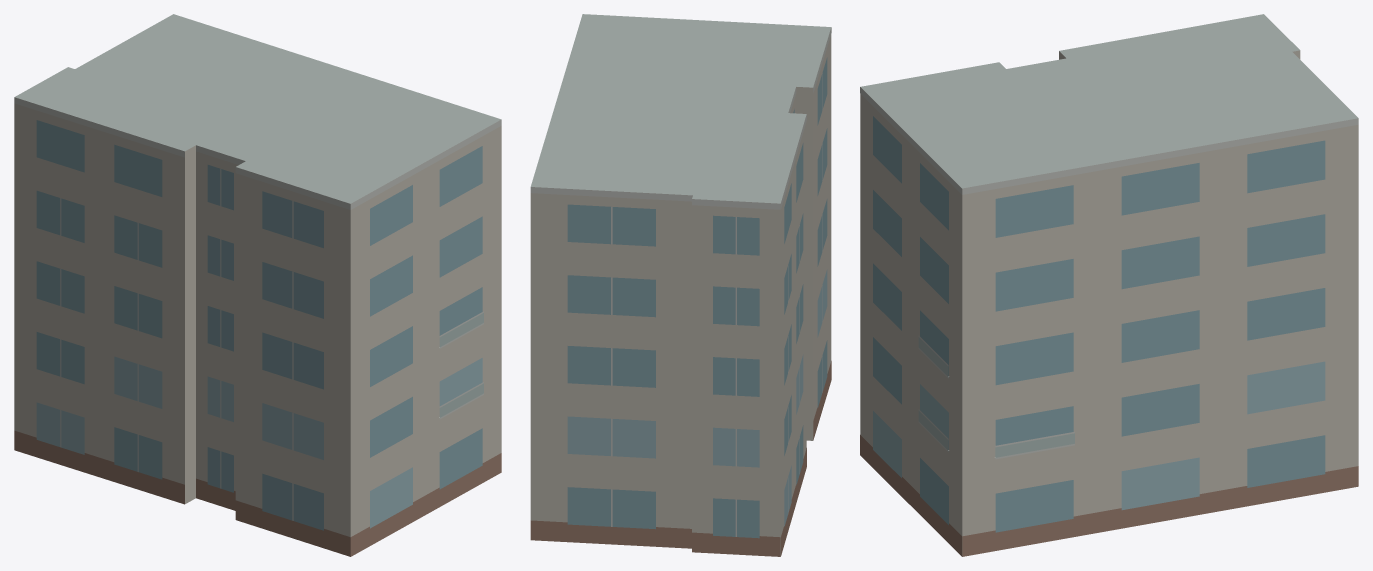
Rendered from survey-upis-32856355.glb.
3 views of the same model, side by side, from view 1: azimuth 30°, elevation 25°; view 2: azimuth 150°, elevation 25°; view 3: azimuth 270°, elevation 25° (orthographic). The views are drawn at different scales.
Parts seen in each view (by area): view 1: survey-upis-32856355.tmp; view 2: survey-upis-32856355.tmp; view 3: survey-upis-32856355.tmp.
Boxes of the visible parts, x1,y1,x2,y2 form: survey-upis-32856355.tmp: [14, 14, 501, 556]; survey-upis-32856355.tmp: [530, 14, 831, 556]; survey-upis-32856355.tmp: [860, 14, 1358, 556].
Bounding box in the file's own units: 14.13 × 13.9 × 17.05.
